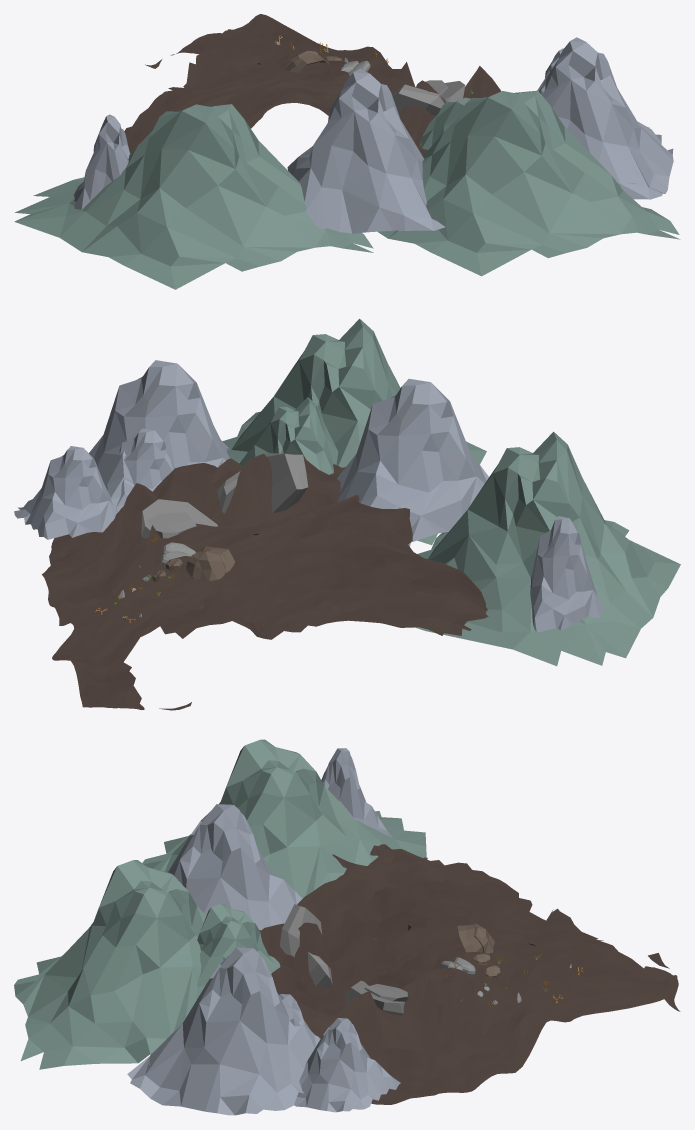
The model's file is kazan_area.fbx.
3 renders of one model, top to bottom at view 1: azimuth 30°, elevation 25°; view 2: azimuth 150°, elevation 25°; view 3: azimuth 270°, elevation 25°, orthographic. The views are drawn at different scales.
Visible parts, largest first — view 1: polySurface204, polySurface207, Environment_4, polySurface206, polySurface208, polySurface205, Rock_8, polySurface211, rock1; view 2: Environment_4, polySurface204, polySurface206, polySurface207, polySurface208, polySurface209, polySurface205, polySurface211, polySurface210, Rock_8, rock1, Rock_4 (+1 smaller); view 3: Environment_4, polySurface207, polySurface208, polySurface204, polySurface206, polySurface209, polySurface211, polySurface205, Rock_8, rock1, Rock_4, Rock_7.
Boxes of the visible parts, bbox=[...] form: polySurface204: bbox=[14, 104, 373, 289]; polySurface207: bbox=[377, 90, 680, 276]; Environment_4: bbox=[124, 14, 500, 155]; polySurface206: bbox=[287, 68, 444, 233]; polySurface208: bbox=[542, 37, 673, 199]; polySurface205: bbox=[73, 114, 130, 209]; Rock_8: bbox=[392, 84, 444, 115]; polySurface211: bbox=[420, 97, 486, 149]; rock1: bbox=[285, 50, 330, 72]; Environment_4: bbox=[42, 453, 488, 710]; polySurface204: bbox=[415, 431, 680, 666]; polySurface206: bbox=[336, 378, 488, 542]; polySurface207: bbox=[222, 318, 486, 546]; polySurface208: bbox=[89, 360, 229, 513]; polySurface209: bbox=[14, 446, 116, 539]; polySurface205: bbox=[530, 516, 604, 631]; polySurface211: bbox=[239, 397, 338, 474]; polySurface210: bbox=[116, 428, 173, 513]; Rock_8: bbox=[264, 453, 308, 513]; rock1: bbox=[186, 546, 235, 581]; Rock_4: bbox=[141, 499, 217, 538]; Environment_4: bbox=[259, 844, 680, 1104]; polySurface207: bbox=[14, 860, 206, 1069]; polySurface208: bbox=[127, 947, 319, 1115]; polySurface204: bbox=[142, 739, 426, 898]; polySurface206: bbox=[168, 804, 302, 930]; polySurface209: bbox=[294, 1018, 400, 1112]; polySurface211: bbox=[196, 903, 280, 999]; polySurface205: bbox=[321, 748, 392, 837]; Rock_8: bbox=[279, 904, 322, 957]; rock1: bbox=[457, 923, 494, 953]; Rock_4: bbox=[344, 980, 404, 1015]; Rock_7: bbox=[307, 951, 332, 988].
Bounding box in the file's own units: 661 × 186 × 641.
